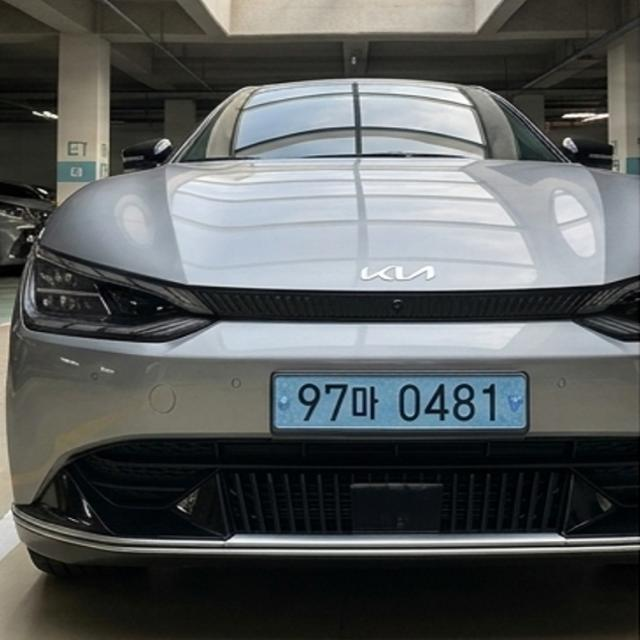car: (263, 358, 558, 445)
carev: (505, 375, 531, 433), (273, 372, 297, 434)
